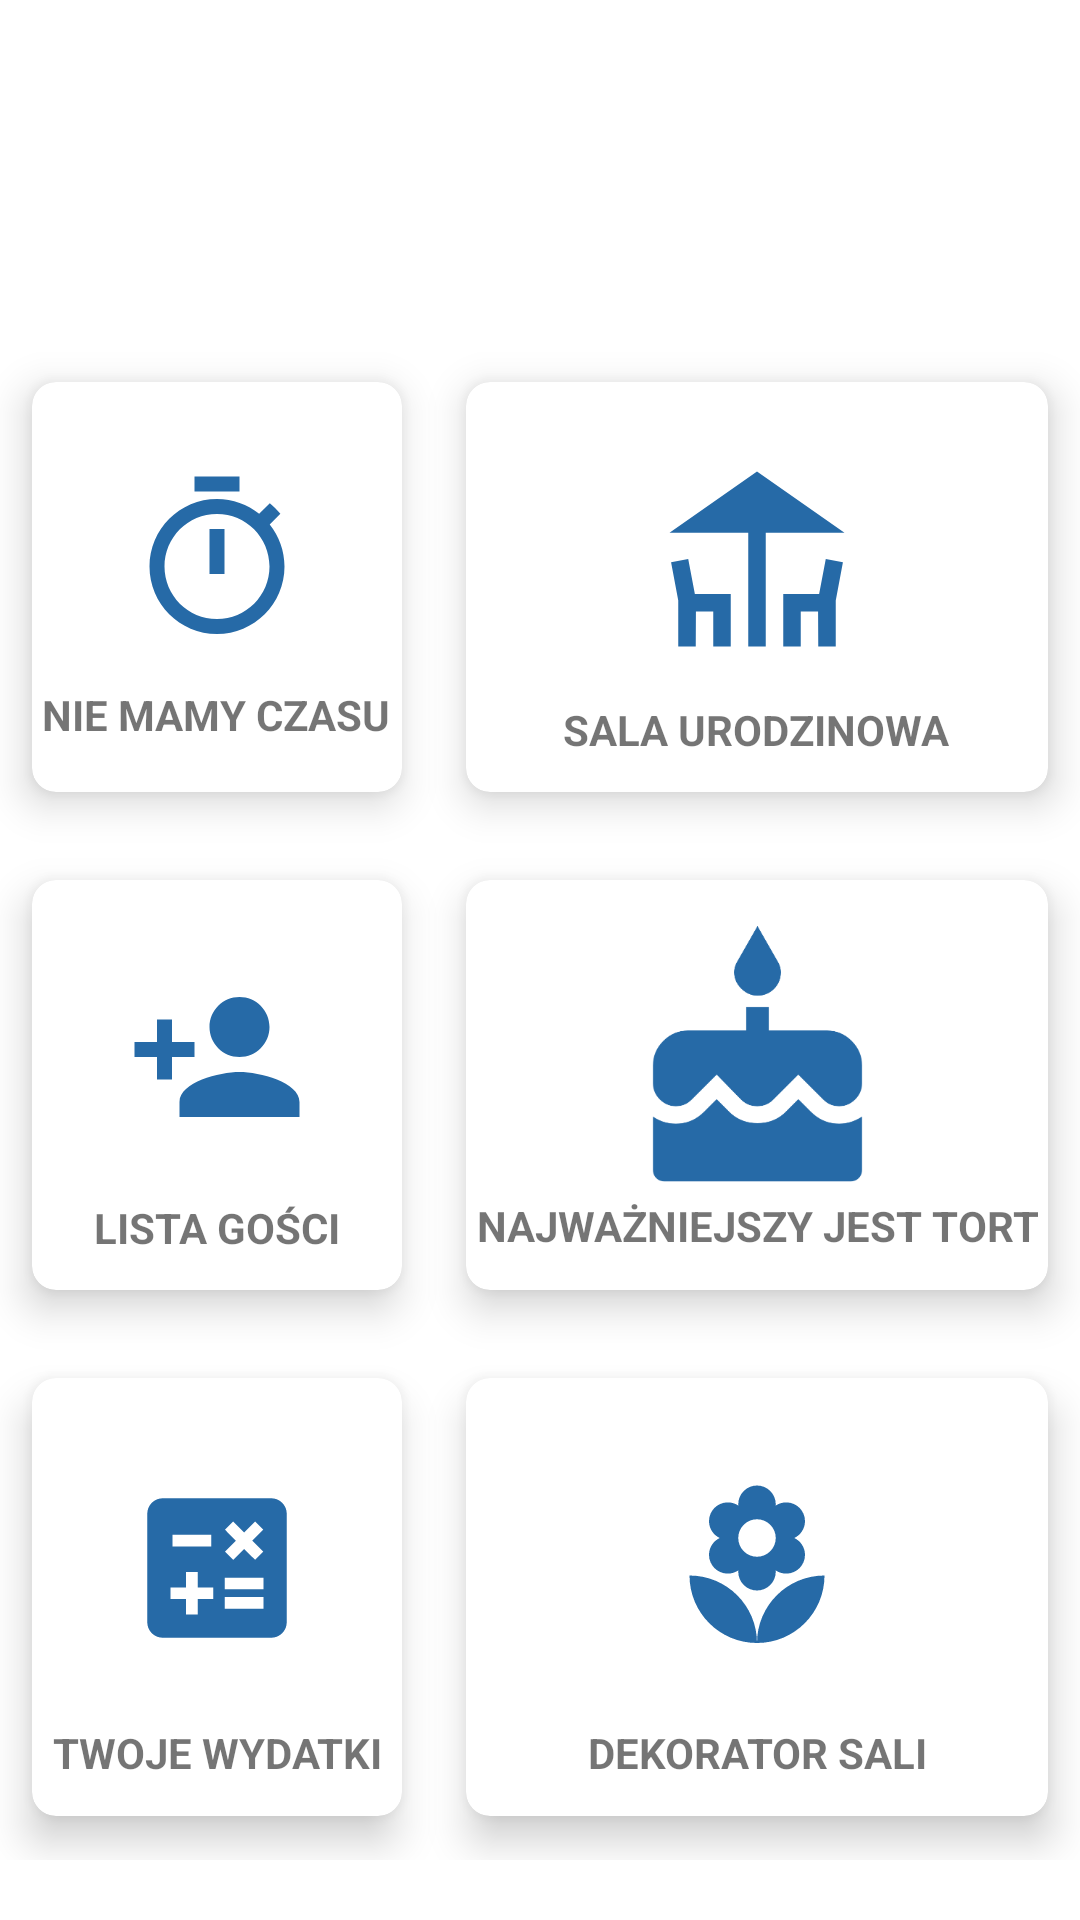

Icons on this 1080px×1920px Android screen, each with its box as (x1, y1, x2, y2):
cake: (653, 926, 862, 1182)
calculate: (147, 1498, 287, 1638)
deck: (670, 471, 844, 647)
local florist: (689, 1485, 825, 1643)
person add: (134, 997, 300, 1117)
timer: (149, 476, 285, 634)
